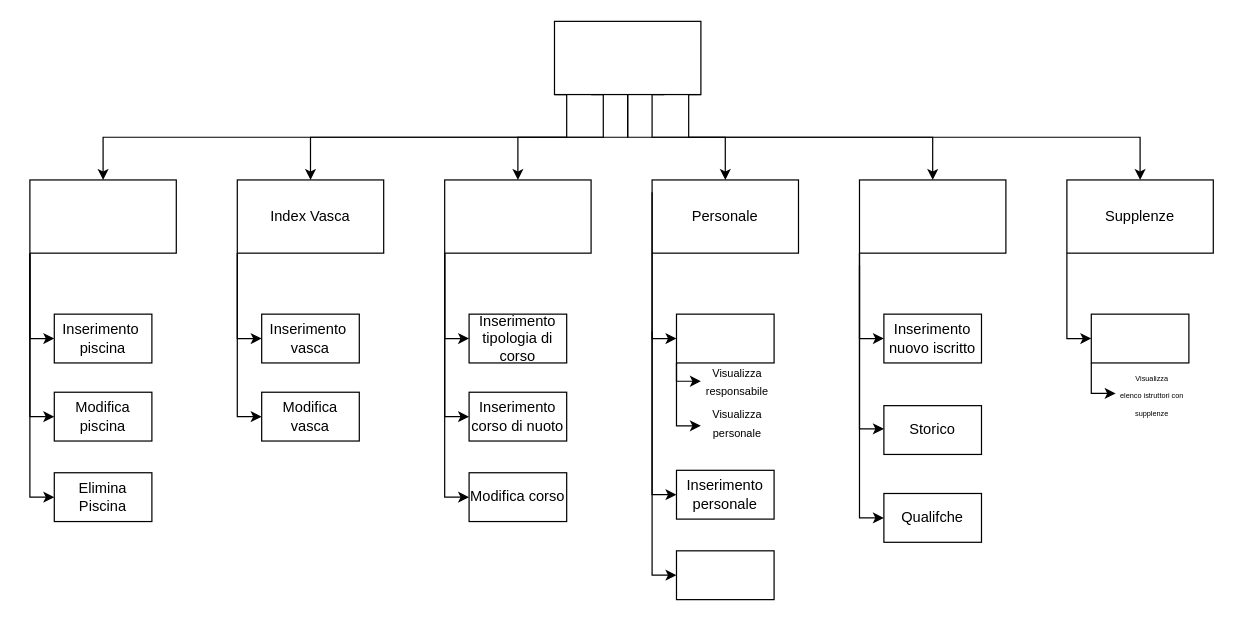
Some shapes in this 1235 by 621 pixel diagram are drawn without their labels. The box of each missing label's shape, as (x1, y1, x2, y2) in pixels:
Index Corsi di nuoto: (443, 179, 591, 253)
Index Piscina: (29, 179, 176, 253)
Inserimento qualifica: (675, 550, 774, 600)
Iscritti: (858, 179, 1006, 253)
NAVBAR: (553, 20, 701, 95)
Seleziona: (1090, 313, 1189, 363)
Seleziona piscina + anno: (675, 313, 774, 363)
